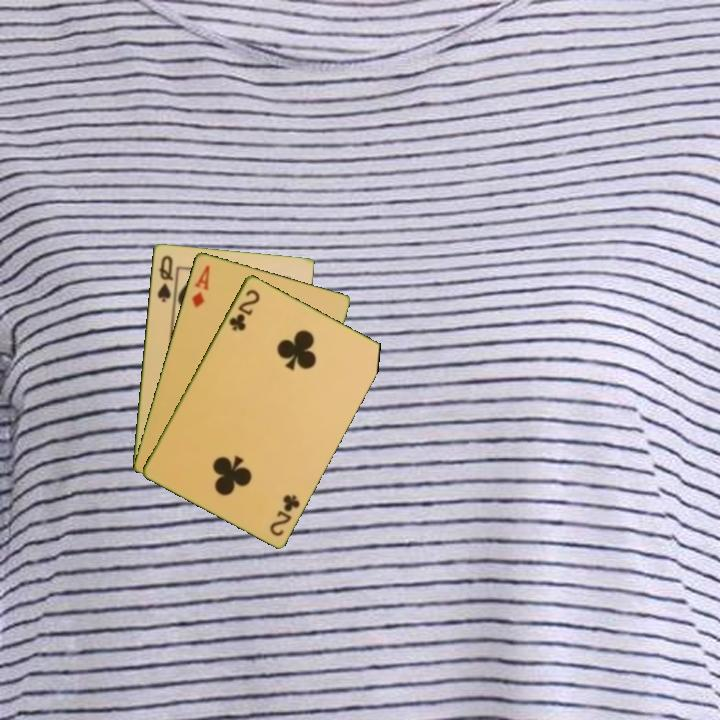2c: (225, 285, 263, 333), (266, 490, 303, 539)
Ad: (188, 261, 212, 310)
Qs: (154, 252, 176, 305)
